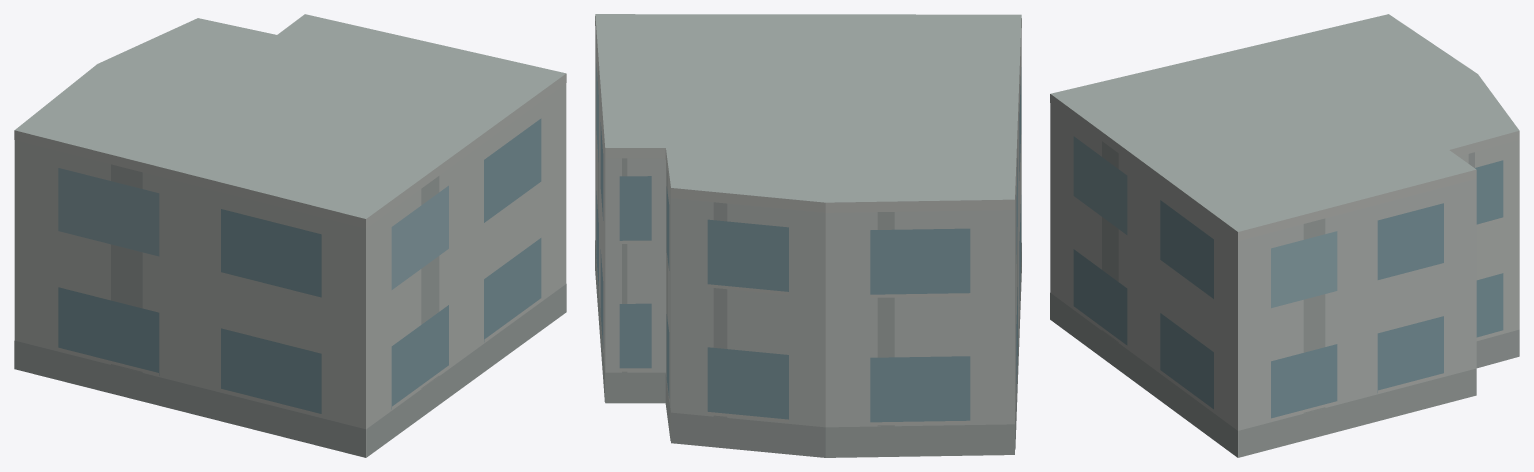
The model's file is residential-d69bc296-a2f8-477f-b752-1e88c250c41f.glb.
3 renders of one model, left to right at view 1: azimuth 30°, elevation 25°; view 2: azimuth 150°, elevation 25°; view 3: azimuth 270°, elevation 25°, orthographic. The views are drawn at different scales.
Parts seen in each view (by area): view 1: residential-d69bc296-a2f8-477f-b752-1e88c250c41f.tmp; view 2: residential-d69bc296-a2f8-477f-b752-1e88c250c41f.tmp; view 3: residential-d69bc296-a2f8-477f-b752-1e88c250c41f.tmp.
Part boxes in pixels (<box>): residential-d69bc296-a2f8-477f-b752-1e88c250c41f.tmp: <box>14,14,566,457</box>; residential-d69bc296-a2f8-477f-b752-1e88c250c41f.tmp: <box>595,14,1021,457</box>; residential-d69bc296-a2f8-477f-b752-1e88c250c41f.tmp: <box>1050,14,1519,457</box>.
Bounding box in the file's own units: 12.43 × 6 × 11.31.
